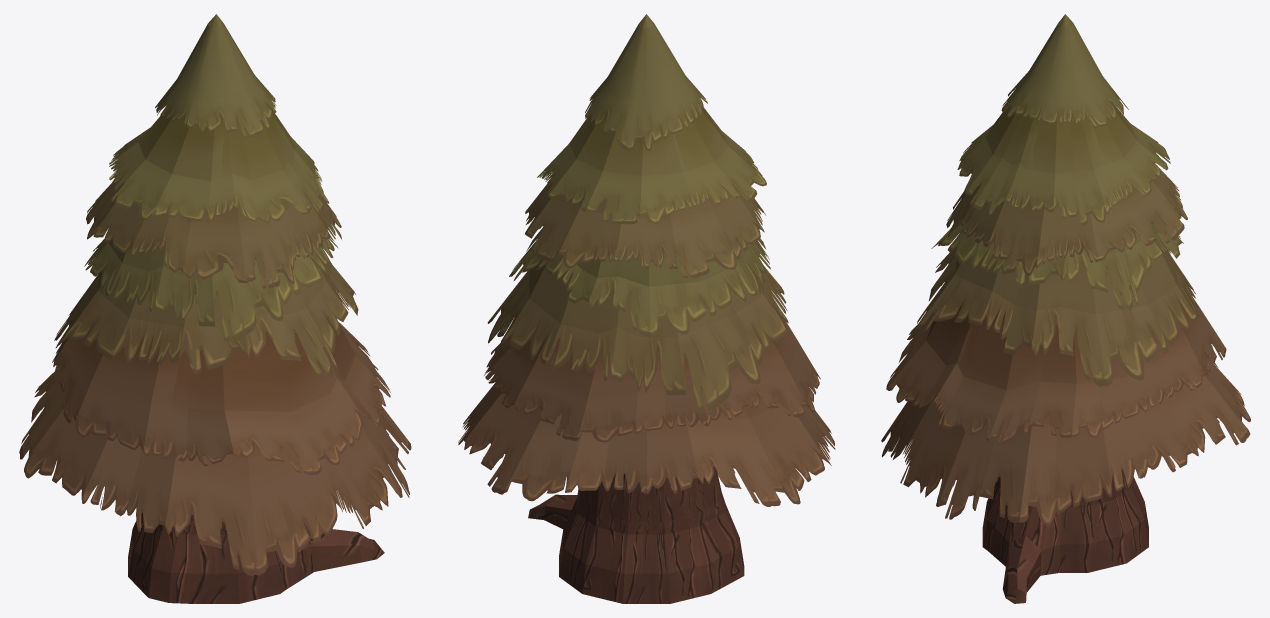
The model's file is Pine.FBX.
3 renders of one model, left to right at view 1: azimuth 30°, elevation 25°; view 2: azimuth 150°, elevation 25°; view 3: azimuth 270°, elevation 25°, orthographic. The views are drawn at different scales.
Parts seen in each view (by area): view 1: Cone003; view 2: Cone003; view 3: Cone003.
Boxes of the visible parts, x1,y1,x2,y2 form: Cone003: (19, 14, 411, 603); Cone003: (458, 14, 835, 603); Cone003: (881, 14, 1250, 603).
Bounding box in the file's own units: 21.7 × 32.76 × 21.42.
